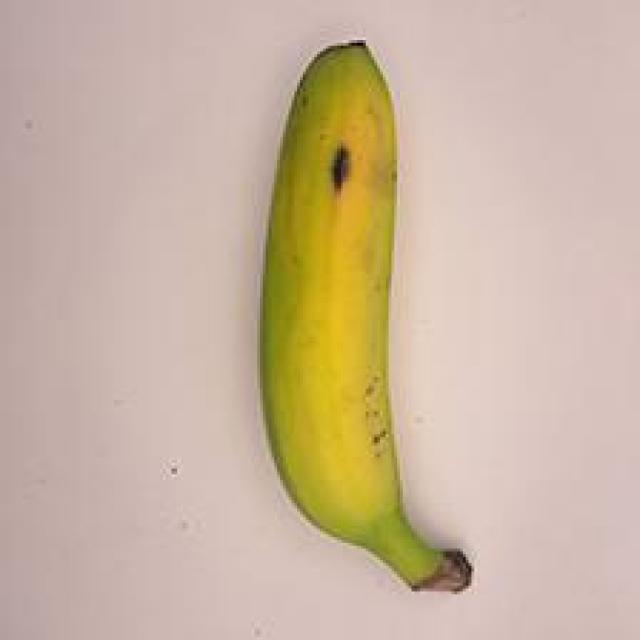Unripe: (187, 22, 519, 615)
